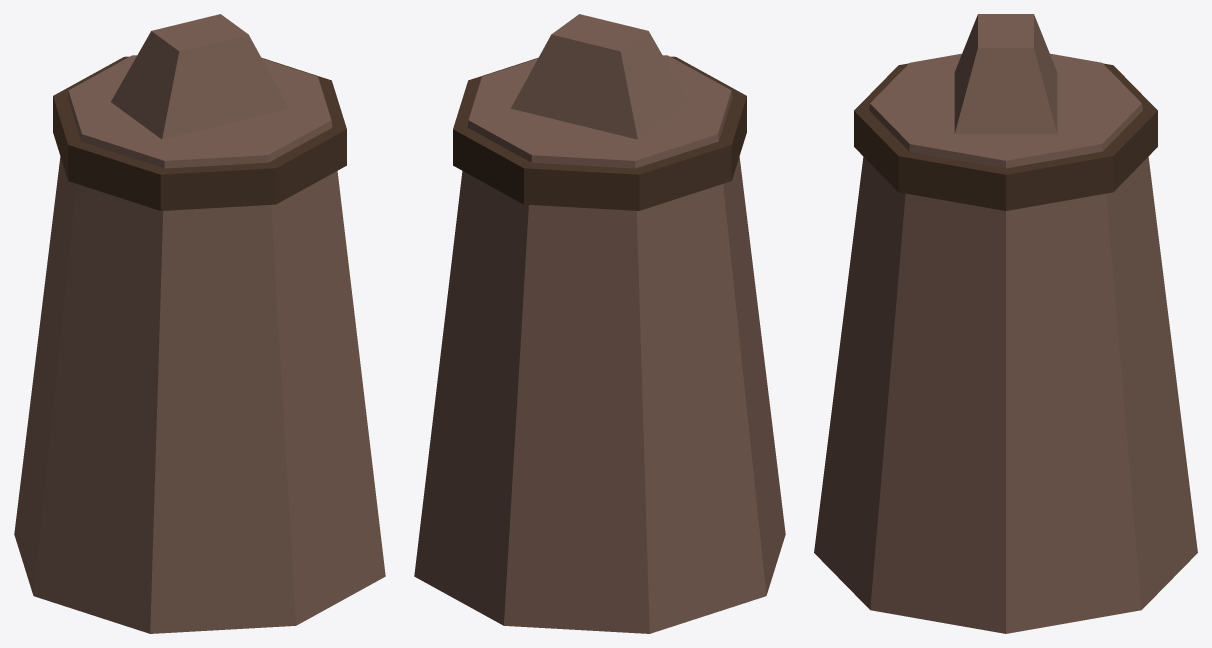
Rendered from grain_sack.glb.
3 renders of one model, left to right at view 1: azimuth 30°, elevation 25°; view 2: azimuth 150°, elevation 25°; view 3: azimuth 270°, elevation 25°, orthographic.
Visible parts, largest first — view 1: grain_sack_lod0; view 2: grain_sack_lod0; view 3: grain_sack_lod0.
Boxes of the visible parts, x1,y1,x2,y2 form: grain_sack_lod0: [14, 14, 385, 633]; grain_sack_lod0: [414, 14, 785, 633]; grain_sack_lod0: [814, 14, 1197, 633].
Size of what is drawn, in the model's own units: 0.48 by 0.72 by 0.48.
